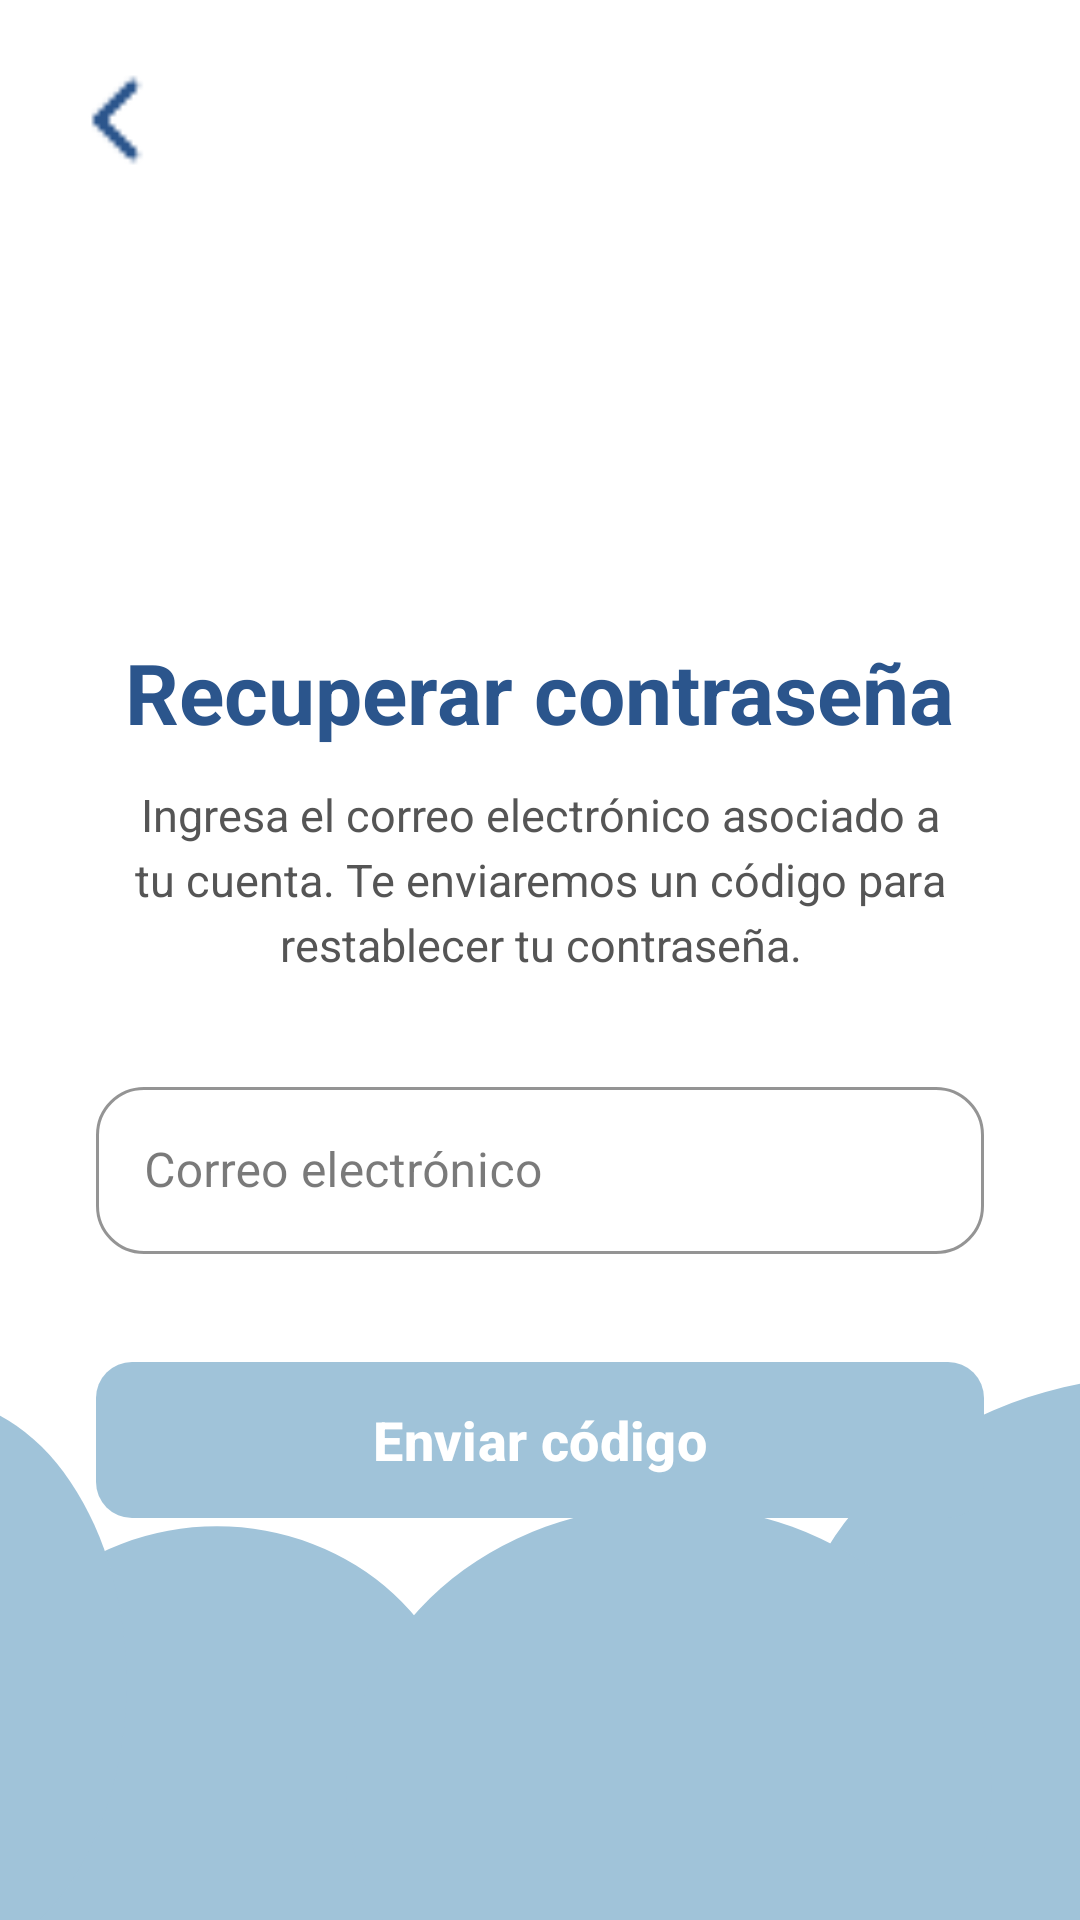

Icon click points for this 1080*1920 phone screenshot, format (x=x, y=y):
back arrow: (x=116, y=120)
